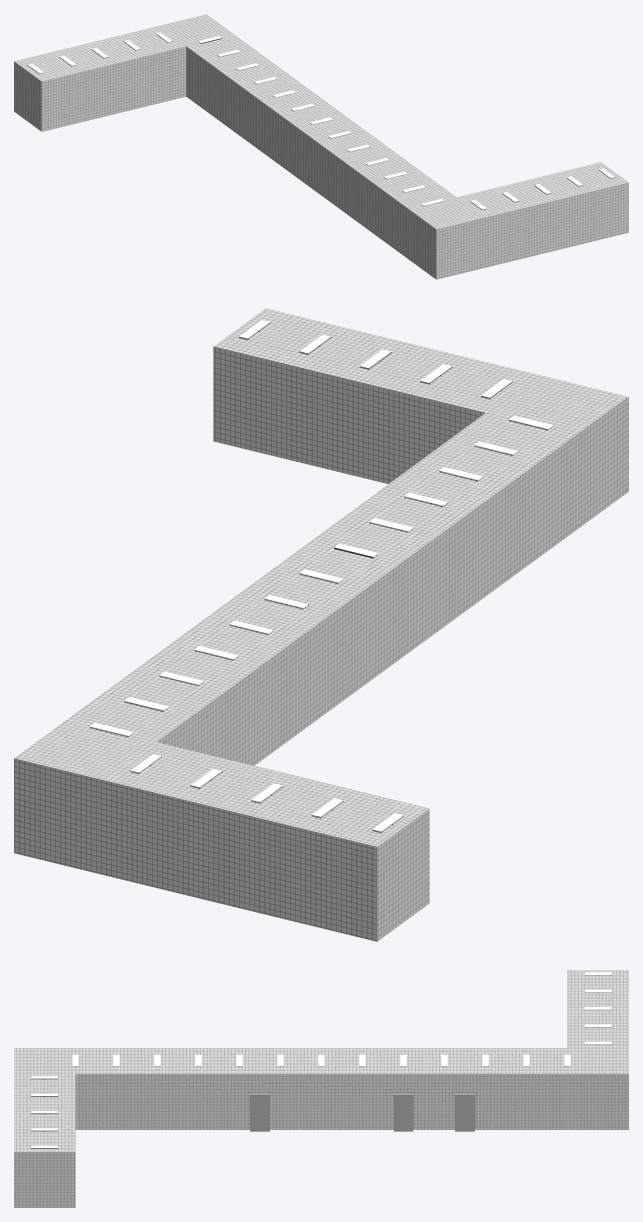
File: Exit8.glb
3 renders of one model, top to bottom at view 1: azimuth 30°, elevation 25°; view 2: azimuth 150°, elevation 25°; view 3: azimuth 270°, elevation 25°, orthographic. The views are drawn at different scales.
Visible parts, largest first — view 1: Main; view 2: Main; view 3: Main.
Boxes of the visible parts, <box> form: Main: <box>14,14,628,279</box>; Main: <box>14,308,628,941</box>; Main: <box>14,970,628,1207</box>.
Size of the model in its own units: 21 by 3.05 by 30.
Materials: 5 (1 with a texture image).
